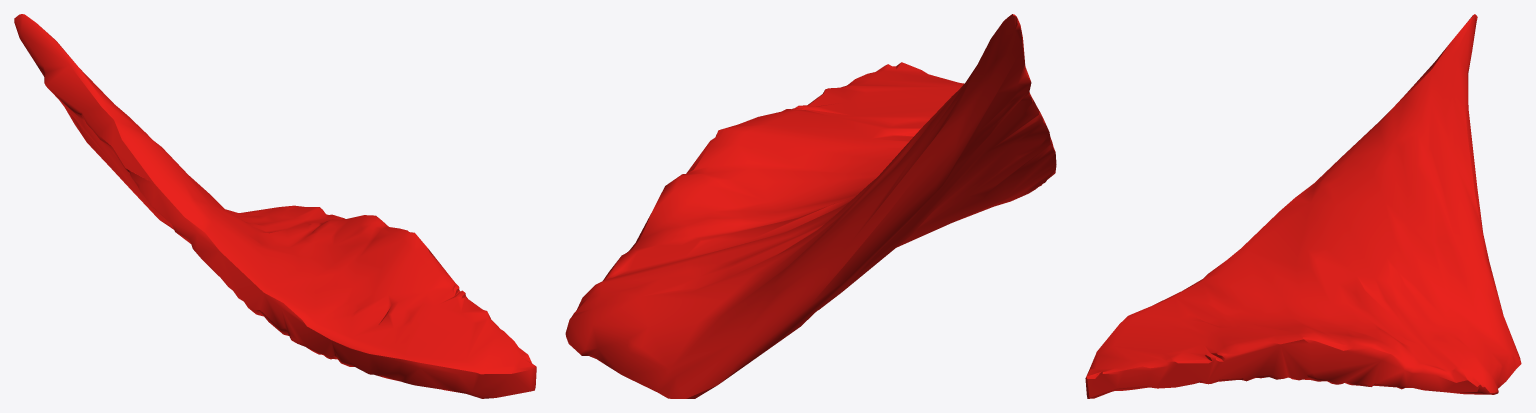
The model's file is Right mylohyoid.fbx.
The picture shows the model from 3 angles, left to right: view 1: azimuth 30°, elevation 25°; view 2: azimuth 150°, elevation 25°; view 3: azimuth 270°, elevation 25°; orthographic projection. The views are drawn at different scales.
Parts seen in each view (by area): view 1: Right mylohyoid; view 2: Right mylohyoid; view 3: Right mylohyoid.
Part boxes in pixels (<box>): Right mylohyoid: <box>14,14,536,398</box>; Right mylohyoid: <box>565,14,1056,398</box>; Right mylohyoid: <box>1085,14,1521,398</box>.
Size of the model in its own units: 3.48 by 3.22 by 4.88.
